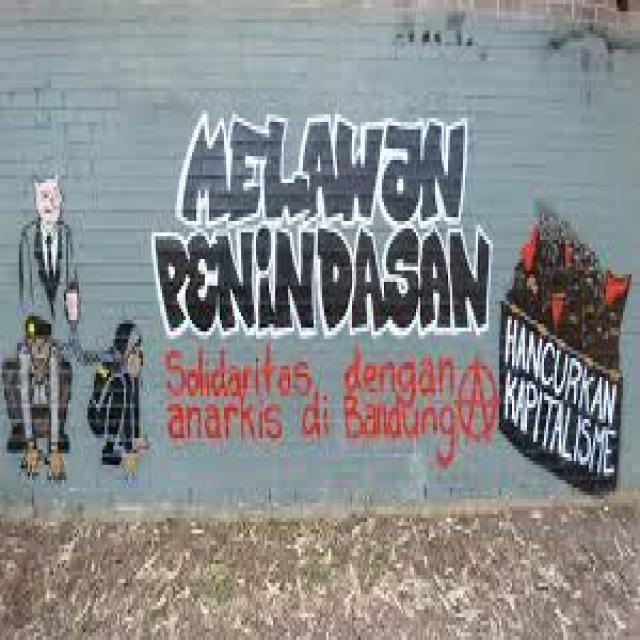-: (158, 114, 490, 330), (3, 177, 150, 486), (161, 344, 500, 471), (500, 204, 632, 496)
